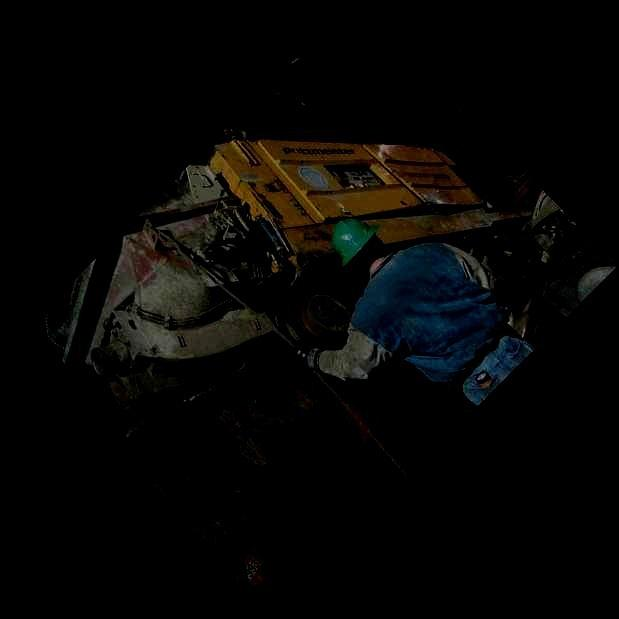helmet: (331, 217, 385, 275)
